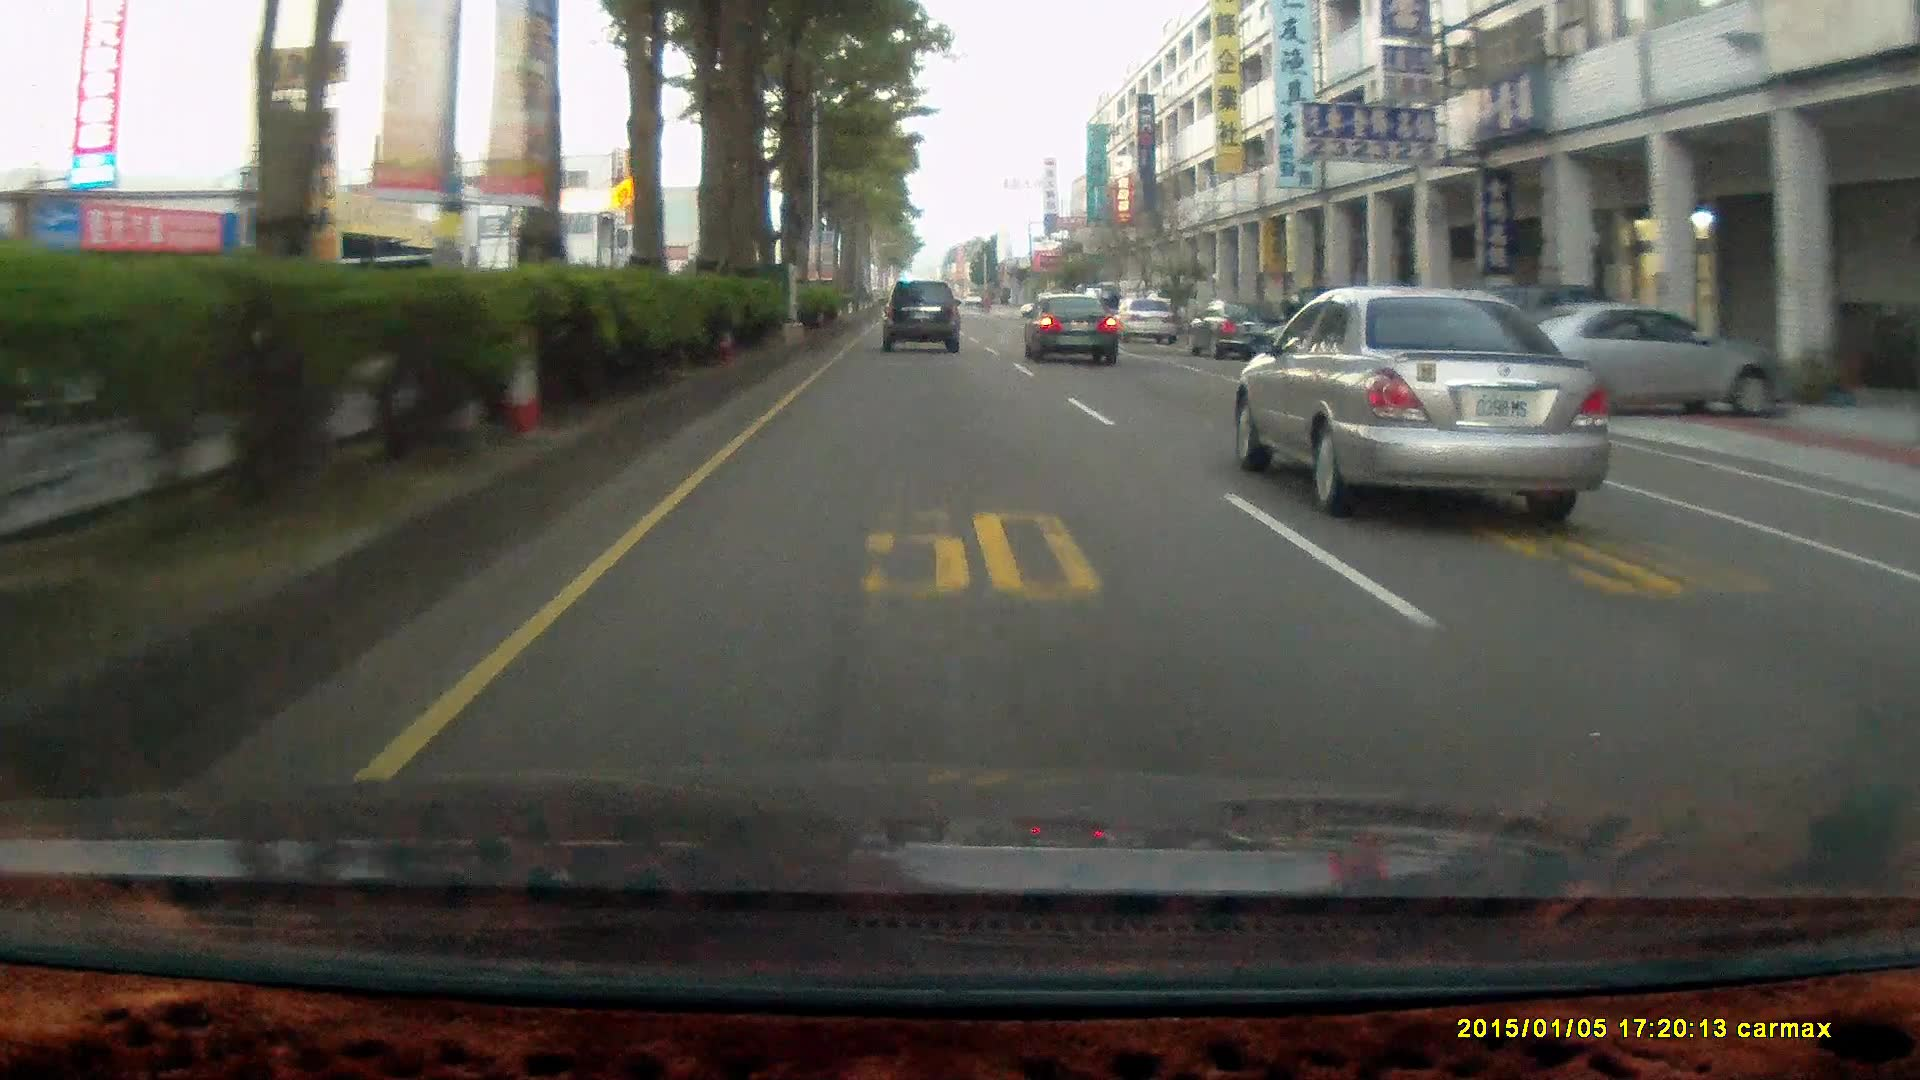vehicle: (1226, 286, 1626, 525), (1466, 301, 1799, 419), (1480, 299, 1791, 418), (1021, 291, 1117, 367), (1025, 294, 1124, 365), (1184, 295, 1288, 359), (882, 280, 964, 357), (880, 280, 963, 349), (1108, 295, 1178, 345), (1117, 295, 1180, 345)
